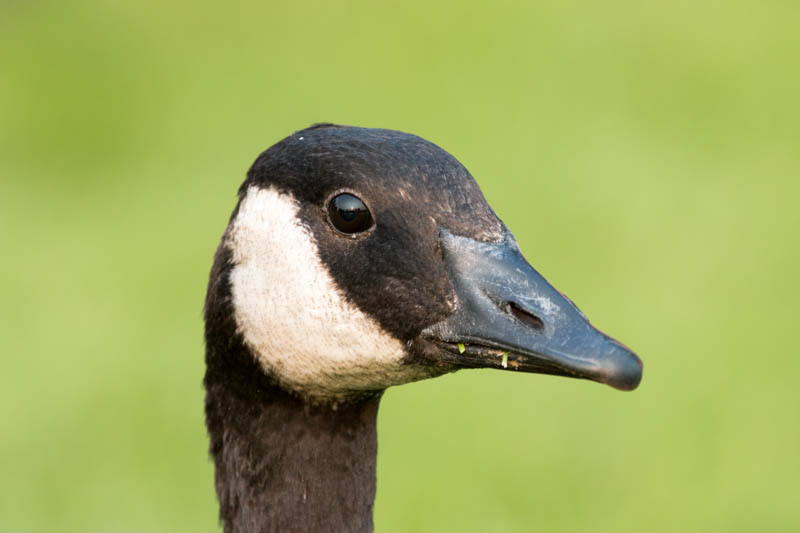goose-head: (202, 121, 645, 408)
